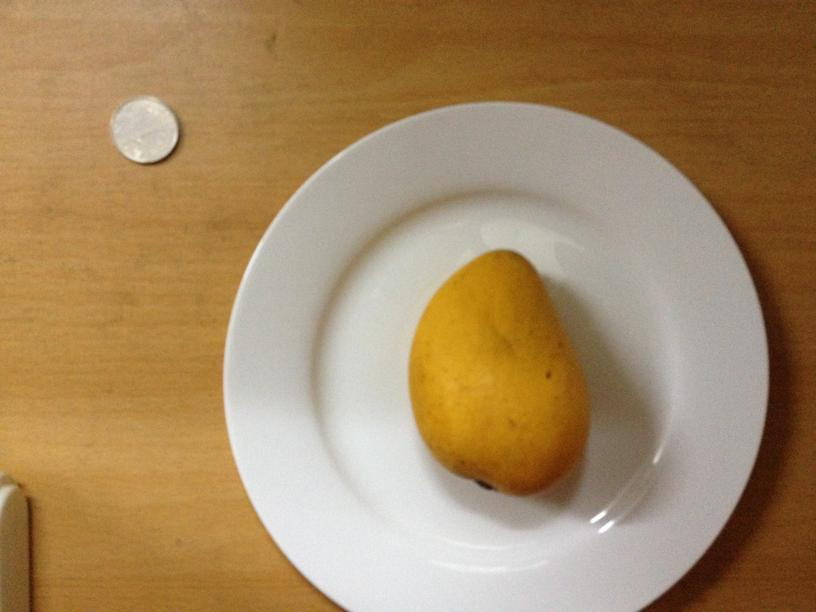coin: (111, 97, 180, 164)
mango: (416, 250, 587, 493)
